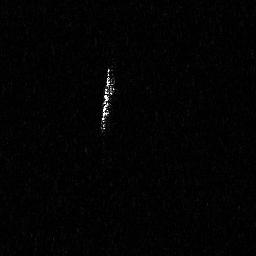ship: (98, 64, 117, 136)
